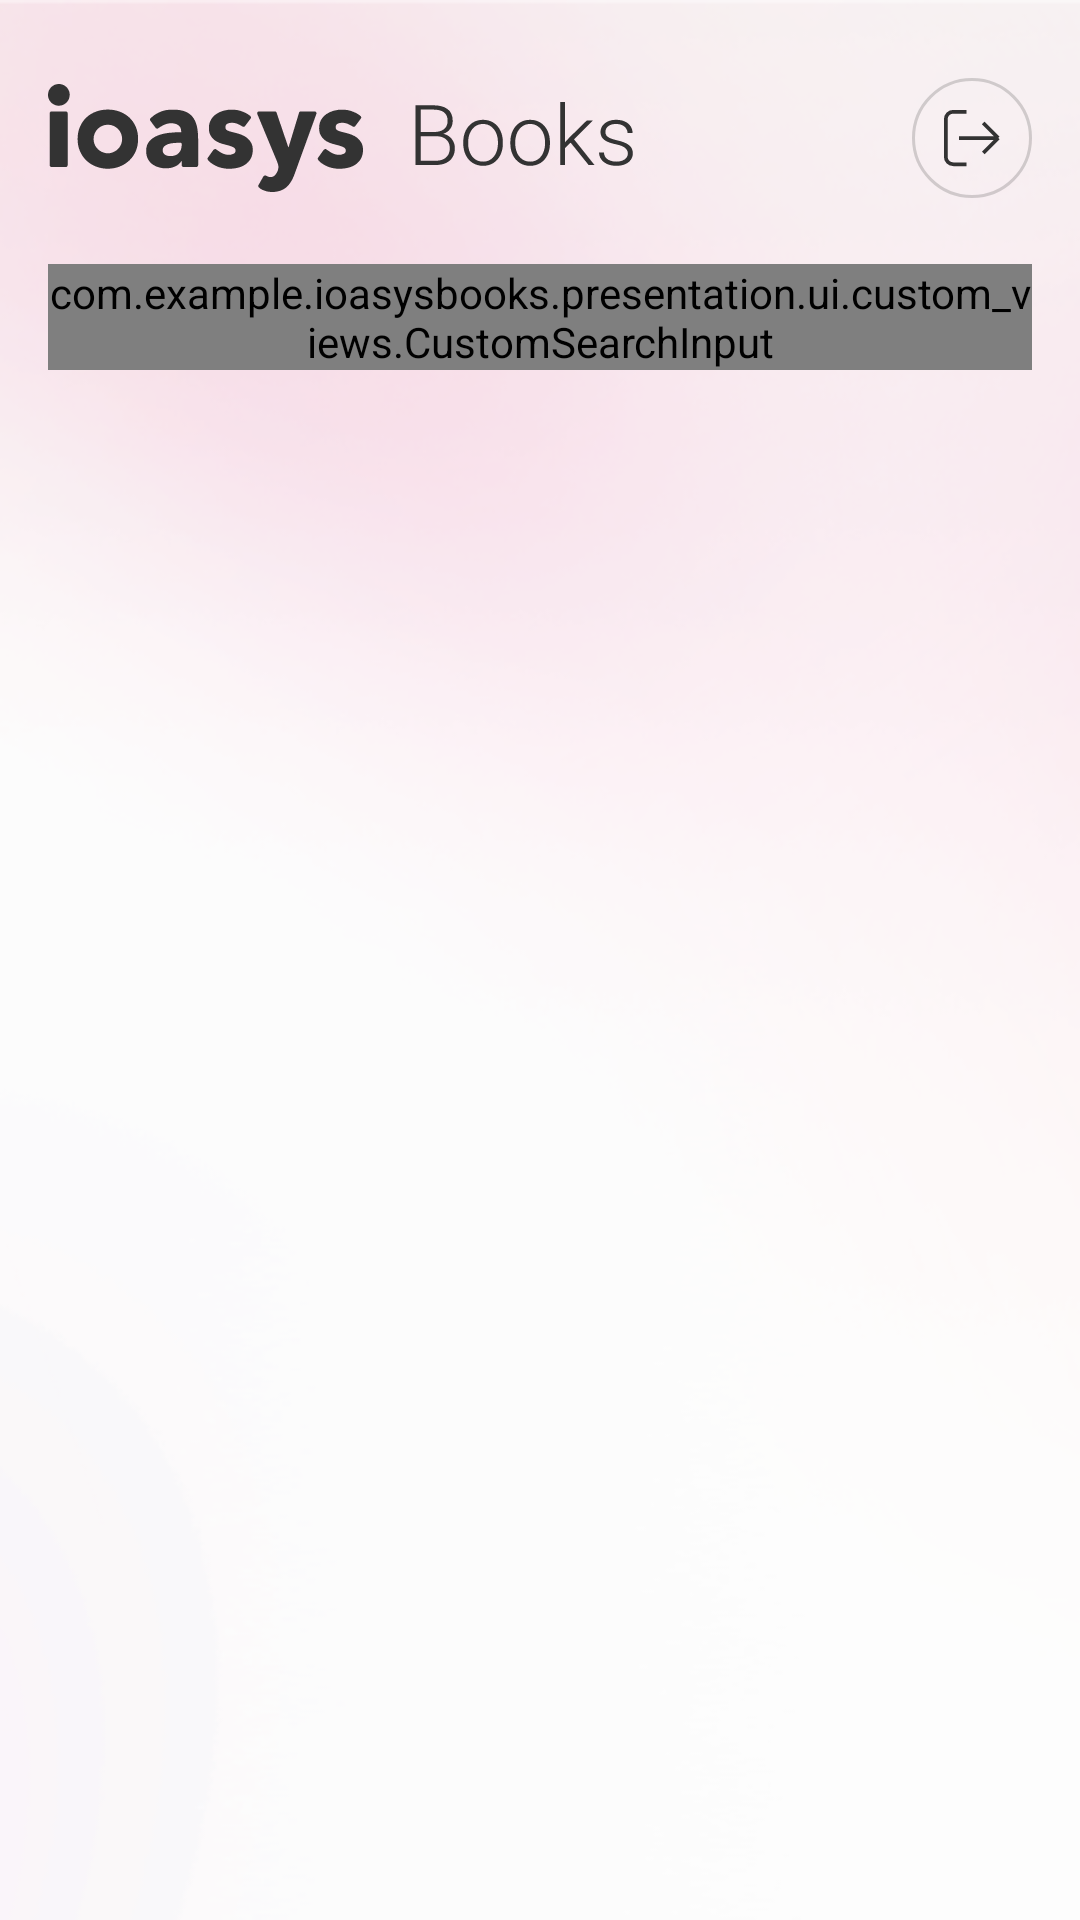

Point at icon controls on the screen. Image size 1080×1920, points as [x,y].
log out: [972,138]
